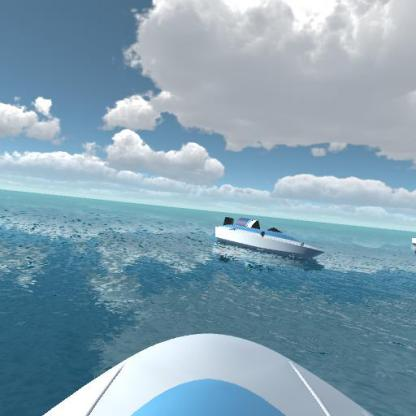usv1: (214, 211, 328, 266)
